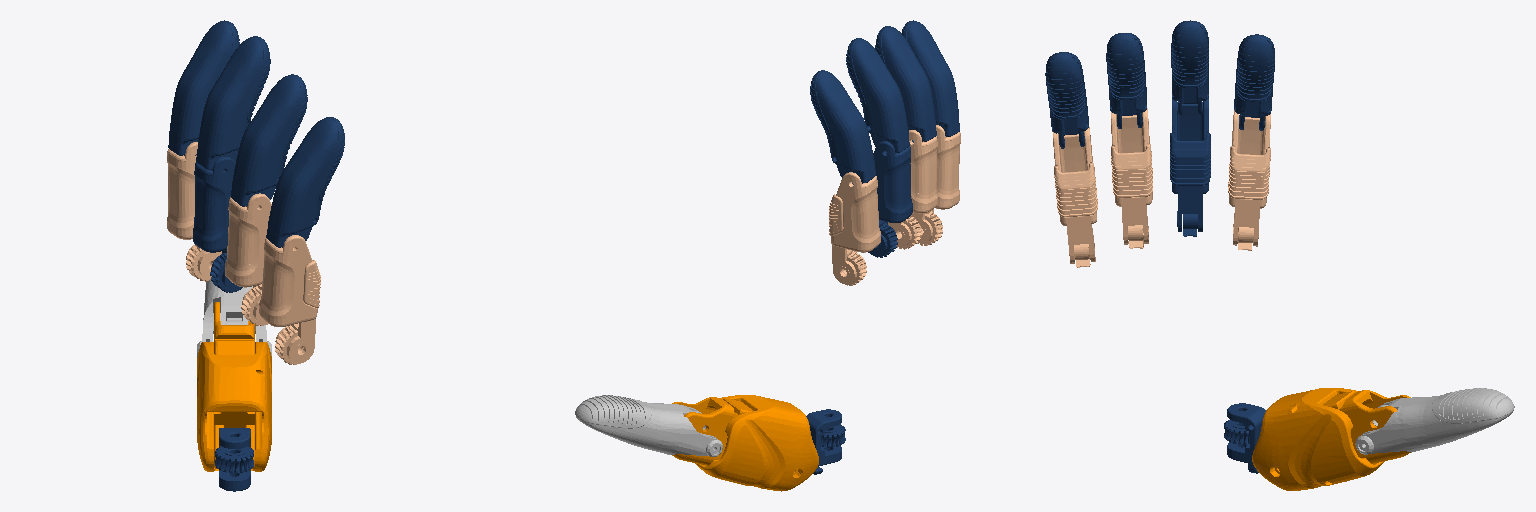
The robot description file, URDF, robot "linker_o6_right_v1.0_urdf":
<?xml version="1.0" encoding="utf-8"?>
<!-- This URDF was automatically created by SolidWorks to URDF Exporter! Originally created by [author] ([email redacted]) 
     Commit Version: 1.6.0-4-g7f85cfe  Build Version: 1.6.7995.38578
     For more information, please see http://wiki.ros.org/sw_urdf_exporter -->
<robot
  name="linker_o6_right_v1.0_urdf">
  <link
    name="hand_base_link">
    <inertial>
      <origin
        xyz="-0.00160320773490556 0.000358462699237561 0.0538002704027215"
        rpy="0 0 0" />
      <mass
        value="0.06740077960995" />
      <inertia
        ixx="5.22359941041901E-05"
        ixy="3.0391535852764E-07"
        ixz="3.88322215371643E-07"
        iyy="3.33473043513648E-05"
        iyz="-7.77555280794861E-07"
        izz="2.28342677422006E-05" />
    </inertial>
    <visual>
      <origin
        xyz="0 0 0"
        rpy="0 0 0" />
      <geometry>
        <mesh
          filename="meshes/hand_base_link.STL" />
      </geometry>
      <material
        name="">
        <color
          rgba="1 0.6 0 1" />
      </material>
    </visual>
    <collision>
      <origin
        xyz="0 0 0"
        rpy="0 0 0" />
      <geometry>
        <mesh
          filename="meshes/hand_base_link.STL" />
      </geometry>
    </collision>
  </link>
  <link
    name="thumb_metacarpals_base2">
    <inertial>
      <origin
        xyz="0.00162795738393507 0.00276671978336815 -0.00184227725602707"
        rpy="0 0 0" />
      <mass
        value="0.00138591070212997" />
      <inertia
        ixx="5.26294625624223E-08"
        ixy="-3.9288013799604E-09"
        ixz="2.43766268199571E-09"
        iyy="4.82623724532942E-08"
        iyz="3.71867754115443E-09"
        izz="2.88555522060562E-08" />
    </inertial>
    <visual>
      <origin
        xyz="0 0 0"
        rpy="0 0 0" />
      <geometry>
        <mesh
          filename="meshes/thumb_metacarpals_base2.STL" />
      </geometry>
      <material
        name="">
        <color
          rgba="0.164705882352941 0.282352941176471 0.443137254901961 1" />
      </material>
    </visual>
    <collision>
      <origin
        xyz="0 0 0"
        rpy="0 0 0" />
      <geometry>
        <mesh
          filename="meshes/thumb_metacarpals_base2.STL" />
      </geometry>
    </collision>
  </link>
  <joint
    name="thumb_cmc_yaw"
    type="revolute">
    <origin
      xyz="0.011508 0.022975 0.032794"
      rpy="0 0 0" />
    <parent
      link="hand_base_link" />
    <child
      link="thumb_metacarpals_base2" />
    <axis
      xyz="0 0 -1" />
    <limit
      lower="0"
      upper="1.36"
      effort="100"
      velocity="1" />
  </joint>
  <link
    name="thumb_metacarpals">
    <inertial>
      <origin
        xyz="4.24920612856275E-05 -1.67885666835232E-05 0.0228341522590467"
        rpy="0 0 0" />
      <mass
        value="0.0123381607727595" />
      <inertia
        ixx="1.10292488693766E-06"
        ixy="-6.14241939151719E-10"
        ixz="1.14233108676795E-07"
        iyy="1.76757658485787E-06"
        iyz="-4.24576599367025E-10"
        izz="9.36348143657406E-07" />
    </inertial>
    <visual>
      <origin
        xyz="0 0 0"
        rpy="0 0 0" />
      <geometry>
        <mesh
          filename="meshes/thumb_metacarpals.STL" />
      </geometry>
      <material
        name="">
        <color
          rgba="1 0.6 0 1" />
      </material>
    </visual>
    <collision>
      <origin
        xyz="0 0 0"
        rpy="0 0 0" />
      <geometry>
        <mesh
          filename="meshes/thumb_metacarpals.STL" />
      </geometry>
    </collision>
  </link>
  <joint
    name="thumb_cmc_pitch"
    type="revolute">
    <origin
      xyz="0.0061649 0.010678 -0.004891"
      rpy="0 -1.1529 -2.0944" />
    <parent
      link="thumb_metacarpals_base2" />
    <child
      link="thumb_metacarpals" />
    <axis
      xyz="0 1 0" />
    <limit
      lower="0"
      upper="0.58"
      effort="100"
      velocity="1" />
  </joint>
  <link
    name="thumb_distal">
    <inertial>
      <origin
        xyz="-0.00413690727496815 -4.54842793429222E-07 0.0230097179163771"
        rpy="0 0 0" />
      <mass
        value="0.00763302603723749" />
      <inertia
        ixx="1.30546842791578E-06"
        ixy="-2.61617511029467E-12"
        ixz="7.19030685242407E-08"
        iyy="1.22457212713176E-06"
        iyz="1.66931068485225E-11"
        izz="2.7729897944409E-07" />
    </inertial>
    <visual>
      <origin
        xyz="0 0 0"
        rpy="0 0 0" />
      <geometry>
        <mesh
          filename="meshes/thumb_distal.STL" />
      </geometry>
      <material
        name="">
        <color
          rgba="0.792156862745098 0.792156862745098 0.792156862745098 1" />
      </material>
    </visual>
    <collision>
      <origin
        xyz="0 0 0"
        rpy="0 0 0" />
      <geometry>
        <mesh
          filename="meshes/thumb_distal.STL" />
      </geometry>
    </collision>
  </link>
  <joint
    name="thumb_ip"
    type="revolute">
    <origin
      xyz="0.0037776 0 0.045368"
      rpy="0 0 0" />
    <parent
      link="thumb_metacarpals" />
    <child
      link="thumb_distal" />
    <axis
      xyz="0 1 0" />
    <limit
      lower="0"
      upper="1.08"
      effort="100"
      velocity="1" />
    <mimic
      joint="thumb_cmc_pitch"
      multiplier="1.86"
      offset="0" />
  </joint>
  <link
    name="index_proximal">
    <inertial>
      <origin
        xyz="-0.00208665596033792 -4.8964990644329E-06 0.0172736718900068"
        rpy="0 0 0" />
      <mass
        value="0.00253178529301663" />
      <inertia
        ixx="2.65990159539482E-07"
        ixy="-3.55165625722842E-11"
        ixz="4.31046335852167E-08"
        iyy="2.72915460277804E-07"
        iyz="1.75935978708959E-10"
        izz="8.56026306687528E-08" />
    </inertial>
    <visual>
      <origin
        xyz="0 0 0"
        rpy="0 0 0" />
      <geometry>
        <mesh
          filename="meshes/index_proximal.STL" />
      </geometry>
      <material
        name="">
        <color
          rgba="0.980392156862745 0.780392156862745 0.627450980392157 1" />
      </material>
    </visual>
    <collision>
      <origin
        xyz="0 0 0"
        rpy="0 0 0" />
      <geometry>
        <mesh
          filename="meshes/index_proximal.STL" />
      </geometry>
    </collision>
  </link>
  <joint
    name="index_mcp_pitch"
    type="revolute">
    <origin
      xyz="0.0024758 0.02419 0.098779"
      rpy="-0.05236 0 0" />
    <parent
      link="hand_base_link" />
    <child
      link="index_proximal" />
    <axis
      xyz="0 1 0" />
    <limit
      lower="0"
      upper="1.60"
      effort="100"
      velocity="1" />
  </joint>
  <link
    name="index_distal">
    <inertial>
      <origin
        xyz="0.00658940011630532 -4.59976557022623E-06 0.0194434136420913"
        rpy="0 0 0" />
      <mass
        value="0.00376787129082313" />
      <inertia
        ixx="3.22116619426455E-07"
        ixy="1.03152735699049E-11"
        ixz="-1.14363506430985E-07"
        iyy="3.65131844686317E-07"
        iyz="-1.97263639269362E-10"
        izz="1.24256890612907E-07" />
    </inertial>
    <visual>
      <origin
        xyz="0 0 0"
        rpy="0 0 0" />
      <geometry>
        <mesh
          filename="meshes/index_distal.STL" />
      </geometry>
      <material
        name="">
        <color
          rgba="0.164705882352941 0.282352941176471 0.443137254901961 1" />
      </material>
    </visual>
    <collision>
      <origin
        xyz="0 0 0"
        rpy="0 0 0" />
      <geometry>
        <mesh
          filename="meshes/index_distal.STL" />
      </geometry>
    </collision>
  </link>
  <joint
    name="index_dip"
    type="revolute">
    <origin
      xyz="-0.0052516 0 0.036625"
      rpy="0 0 0" />
    <parent
      link="index_proximal" />
    <child
      link="index_distal" />
    <axis
      xyz="0 1 0" />
    <limit
      lower="0"
      upper="1.43"
      effort="100"
      velocity="1" />
    <mimic
      joint="index_mcp_pitch"
      multiplier="0.89"
      offset="0" />
  </joint>
  <link
    name="middle_proximal">
    <inertial>
      <origin
        xyz="-0.00208661081773556 -4.93451838476378E-06 0.0172736805321904"
        rpy="0 0 0" />
      <mass
        value="0.00253175497594429" />
      <inertia
        ixx="2.65989683690695E-07"
        ixy="-3.58343951791586E-11"
        ixz="4.31048601085216E-08"
        iyy="2.72915006047006E-07"
        iyz="1.75718024412593E-10"
        izz="8.56020467202518E-08" />
    </inertial>
    <visual>
      <origin
        xyz="0 0 0"
        rpy="0 0 0" />
      <geometry>
        <mesh
          filename="meshes/middle_proximal.STL" />
      </geometry>
      <material
        name="">
        <color
          rgba="0.164705882352941 0.282352941176471 0.443137254901961 1" />
      </material>
    </visual>
    <collision>
      <origin
        xyz="0 0 0"
        rpy="0 0 0" />
      <geometry>
        <mesh
          filename="meshes/middle_proximal.STL" />
      </geometry>
    </collision>
  </link>
  <joint
    name="middle_mcp_pitch"
    type="revolute">
    <origin
      xyz="0.00052576 0.00634 0.1027"
      rpy="0 0 0" />
    <parent
      link="hand_base_link" />
    <child
      link="middle_proximal" />
    <axis
      xyz="0 1 0" />
    <limit
      lower="0"
      upper="1.60"
      effort="100"
      velocity="1" />
  </joint>
  <link
    name="middle_distal">
    <inertial>
      <origin
        xyz="0.00658940304809306 -4.5885743593238E-06 0.0194434523296449"
        rpy="0 0 0" />
      <mass
        value="0.00376786259758948" />
      <inertia
        ixx="3.221153658306E-07"
        ixy="1.02639617308432E-11"
        ixz="-1.14363547272711E-07"
        iyy="3.65130723083104E-07"
        iyz="-1.96904618797577E-10"
        izz="1.24256787913797E-07" />
    </inertial>
    <visual>
      <origin
        xyz="0 0 0"
        rpy="0 0 0" />
      <geometry>
        <mesh
          filename="meshes/middle_distal.STL" />
      </geometry>
      <material
        name="">
        <color
          rgba="0.164705882352941 0.282352941176471 0.443137254901961 1" />
      </material>
    </visual>
    <collision>
      <origin
        xyz="0 0 0"
        rpy="0 0 0" />
      <geometry>
        <mesh
          filename="meshes/middle_distal.STL" />
      </geometry>
    </collision>
  </link>
  <joint
    name="middle_dip"
    type="revolute">
    <origin
      xyz="-0.0052516 0 0.036625"
      rpy="0 0 0" />
    <parent
      link="middle_proximal" />
    <child
      link="middle_distal" />
    <axis
      xyz="0 1 0" />
    <limit
      lower="0"
      upper="1.43"
      effort="100"
      velocity="1" />
    <mimic
      joint="middle_mcp_pitch"
      multiplier="0.89"
      offset="0" />
  </joint>
  <link
    name="ring_proximal">
    <inertial>
      <origin
        xyz="-0.00208654311325356 -4.98538564003281E-06 0.0172736743497407"
        rpy="0 0 0" />
      <mass
        value="0.00253170963529411" />
      <inertia
        ixx="2.6598913795678E-07"
        ixy="-3.62757108675266E-11"
        ixz="4.31050611555507E-08"
        iyy="2.72914417061517E-07"
        iyz="1.75554984053478E-10"
        izz="8.56012458677515E-08" />
    </inertial>
    <visual>
      <origin
        xyz="0 0 0"
        rpy="0 0 0" />
      <geometry>
        <mesh
          filename="meshes/ring_proximal.STL" />
      </geometry>
      <material
        name="">
        <color
          rgba="0.980392156862745 0.780392156862745 0.627450980392157 1" />
      </material>
    </visual>
    <collision>
      <origin
        xyz="0 0 0"
        rpy="0 0 0" />
      <geometry>
        <mesh
          filename="meshes/ring_proximal.STL" />
      </geometry>
    </collision>
  </link>
  <joint
    name="ring_mcp_pitch"
    type="revolute">
    <origin
      xyz="0.0010258 -0.011135 0.098767"
      rpy="0.05236 0 0" />
    <parent
      link="hand_base_link" />
    <child
      link="ring_proximal" />
    <axis
      xyz="0 1 0" />
    <limit
      lower="0"
      upper="1.60"
      effort="100"
      velocity="1" />
  </joint>
  <link
    name="ring_distal">
    <inertial>
      <origin
        xyz="0.00658940273069729 -4.56628863591824E-06 0.0194435005686854"
        rpy="0 0 0" />
      <mass
        value="0.0037678395356105" />
      <inertia
        ixx="3.22112632437858E-07"
        ixy="1.01848408913558E-11"
        ixz="-1.1436348915342E-07"
        iyy="3.65128262095686E-07"
        iyz="-1.96145632992445E-10"
        izz="1.24256284608064E-07" />
    </inertial>
    <visual>
      <origin
        xyz="0 0 0"
        rpy="0 0 0" />
      <geometry>
        <mesh
          filename="meshes/ring_distal.STL" />
      </geometry>
      <material
        name="">
        <color
          rgba="0.164705882352941 0.282352941176471 0.443137254901961 1" />
      </material>
    </visual>
    <collision>
      <origin
        xyz="0 0 0"
        rpy="0 0 0" />
      <geometry>
        <mesh
          filename="meshes/ring_distal.STL" />
      </geometry>
    </collision>
  </link>
  <joint
    name="ring_dip"
    type="revolute">
    <origin
      xyz="-0.0052516 0 0.036625"
      rpy="0 0 0" />
    <parent
      link="ring_proximal" />
    <child
      link="ring_distal" />
    <axis
      xyz="0 1 0" />
    <limit
      lower="0"
      upper="1.43"
      effort="100"
      velocity="1" />
    <mimic
      joint="ring_mcp_pitch"
      multiplier="0.89"
      offset="0" />
  </joint>
  <link
    name="pinky_proximal">
    <inertial>
      <origin
        xyz="-0.00208649034130813 -5.02314582560837E-06 0.0172736680793697"
        rpy="0 0 0" />
      <mass
        value="0.00253167400540778" />
      <inertia
        ixx="2.65988718820404E-07"
        ixy="-3.66012295280295E-11"
        ixz="4.31052220484445E-08"
        iyy="2.72913936904813E-07"
        iyz="1.75447396222308E-10"
        izz="8.56006424720129E-08" />
    </inertial>
    <visual>
      <origin
        xyz="0 0 0"
        rpy="0 0 0" />
      <geometry>
        <mesh
          filename="meshes/pinky_proximal.STL" />
      </geometry>
      <material
        name="">
        <color
          rgba="0.980392156862745 0.780392156862745 0.627450980392157 1" />
      </material>
    </visual>
    <collision>
      <origin
        xyz="0 0 0"
        rpy="0 0 0" />
      <geometry>
        <mesh
          filename="meshes/pinky_proximal.STL" />
      </geometry>
    </collision>
  </link>
  <joint
    name="pinky_mcp_pitch"
    type="revolute">
    <origin
      xyz="0.0024758 -0.028372 0.092741"
      rpy="0.087266 0 0" />
    <parent
      link="hand_base_link" />
    <child
      link="pinky_proximal" />
    <axis
      xyz="0 1 0" />
    <limit
      lower="0"
      upper="1.60"
      effort="100"
      velocity="1" />
  </joint>
  <link
    name="pinky_distal">
    <inertial>
      <origin
        xyz="0.00658940431519205 -4.55268314210333E-06 0.0194435341098305"
        rpy="0 0 0" />
      <mass
        value="0.00376782669873412" />
      <inertia
        ixx="3.22111112339498E-07"
        ixy="1.01707985908333E-11"
        ixz="-1.14363524419061E-07"
        iyy="3.65126916899176E-07"
        iyz="-1.95589215866356E-10"
        izz="1.24256004854426E-07" />
    </inertial>
    <visual>
      <origin
        xyz="0 0 0"
        rpy="0 0 0" />
      <geometry>
        <mesh
          filename="meshes/pinky_distal.STL" />
      </geometry>
      <material
        name="">
        <color
          rgba="0.164705882352941 0.282352941176471 0.443137254901961 1" />
      </material>
    </visual>
    <collision>
      <origin
        xyz="0 0 0"
        rpy="0 0 0" />
      <geometry>
        <mesh
          filename="meshes/pinky_distal.STL" />
      </geometry>
    </collision>
  </link>
  <joint
    name="pinky_dip"
    type="revolute">
    <origin
      xyz="-0.0052516 0 0.036625"
      rpy="0 0 0" />
    <parent
      link="pinky_proximal" />
    <child
      link="pinky_distal" />
    <axis
      xyz="0 1 0" />
    <limit
      lower="0"
      upper="1.43"
      effort="100"
      velocity="1" />
    <mimic
      joint="pinky_mcp_pitch"
      multiplier="0.89"
      offset="0" />
  </joint>
</robot>

--- Render facts (derived) ---
The picture shows the robot from 3 angles, left to right: view 1: azimuth 30°, elevation 25°; view 2: azimuth 150°, elevation 25°; view 3: azimuth 270°, elevation 25°; orthographic projection.
Robot: linker_o6_right_v1.0_urdf — 12 links, 11 joints (11 revolute); root link hand_base_link; default pose: every joint at zero.
Links seen in each view (by area): view 1: thumb_metacarpals, pinky_proximal, pinky_distal, ring_distal, middle_distal, index_distal, ring_proximal, middle_proximal, index_proximal, thumb_metacarpals_base2, thumb_distal; view 2: thumb_metacarpals, thumb_distal, index_proximal, middle_distal, index_distal, ring_distal, middle_proximal, pinky_distal, ring_proximal, pinky_proximal, thumb_metacarpals_base2; view 3: thumb_metacarpals, thumb_distal, pinky_proximal, ring_proximal, index_proximal, middle_proximal, pinky_distal, index_distal, ring_distal, middle_distal, thumb_metacarpals_base2.
Link boxes in pixels (<box>): thumb_metacarpals: <box>197,302,271,471</box>; pinky_proximal: <box>259,235,320,364</box>; pinky_distal: <box>266,117,344,247</box>; ring_distal: <box>231,74,307,206</box>; middle_distal: <box>196,36,270,170</box>; index_distal: <box>168,20,239,155</box>; ring_proximal: <box>225,193,271,325</box>; middle_proximal: <box>193,157,242,292</box>; index_proximal: <box>167,142,221,281</box>; thumb_metacarpals_base2: <box>215,428,253,491</box>; thumb_distal: <box>197,280,271,357</box>; thumb_metacarpals: <box>672,395,818,491</box>; thumb_distal: <box>575,395,722,456</box>; index_proximal: <box>829,172,880,285</box>; middle_distal: <box>846,38,909,153</box>; index_distal: <box>810,70,875,184</box>; ring_distal: <box>875,26,936,142</box>; middle_proximal: <box>868,141,912,257</box>; pinky_distal: <box>901,20,959,137</box>; ring_proximal: <box>888,130,937,249</box>; pinky_proximal: <box>912,125,960,245</box>; thumb_metacarpals_base2: <box>806,409,845,474</box>; thumb_metacarpals: <box>1252,388,1410,490</box>; thumb_distal: <box>1355,388,1514,454</box>; pinky_proximal: <box>1052,127,1097,267</box>; ring_proximal: <box>1111,108,1152,248</box>; index_proximal: <box>1228,110,1270,250</box>; middle_proximal: <box>1170,98,1210,236</box>; pinky_distal: <box>1045,52,1088,148</box>; index_distal: <box>1234,34,1274,130</box>; ring_distal: <box>1106,33,1146,128</box>; middle_distal: <box>1171,20,1208,116</box>; thumb_metacarpals_base2: <box>1224,403,1265,473</box>.
Size in the robot's own frame: 0.0758 by 0.1505 by 0.1584 metres.
11 mesh visuals loaded from 12 distinct referenced files (11 binary STL); not drawn: 1 (reference not matched to a file when rendering).